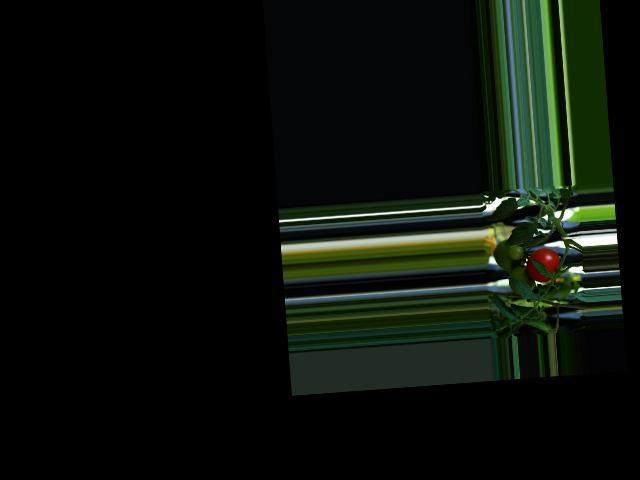tomato: (525, 246, 561, 283)
